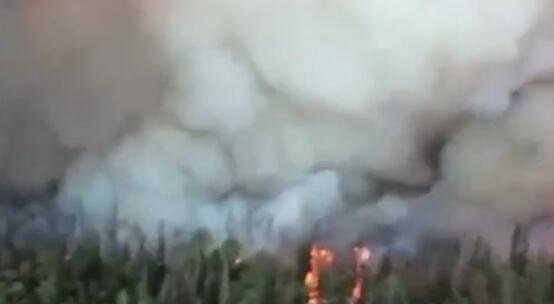fire: (302, 244, 334, 304), (349, 244, 371, 304)
yanwu: (11, 1, 554, 245)
